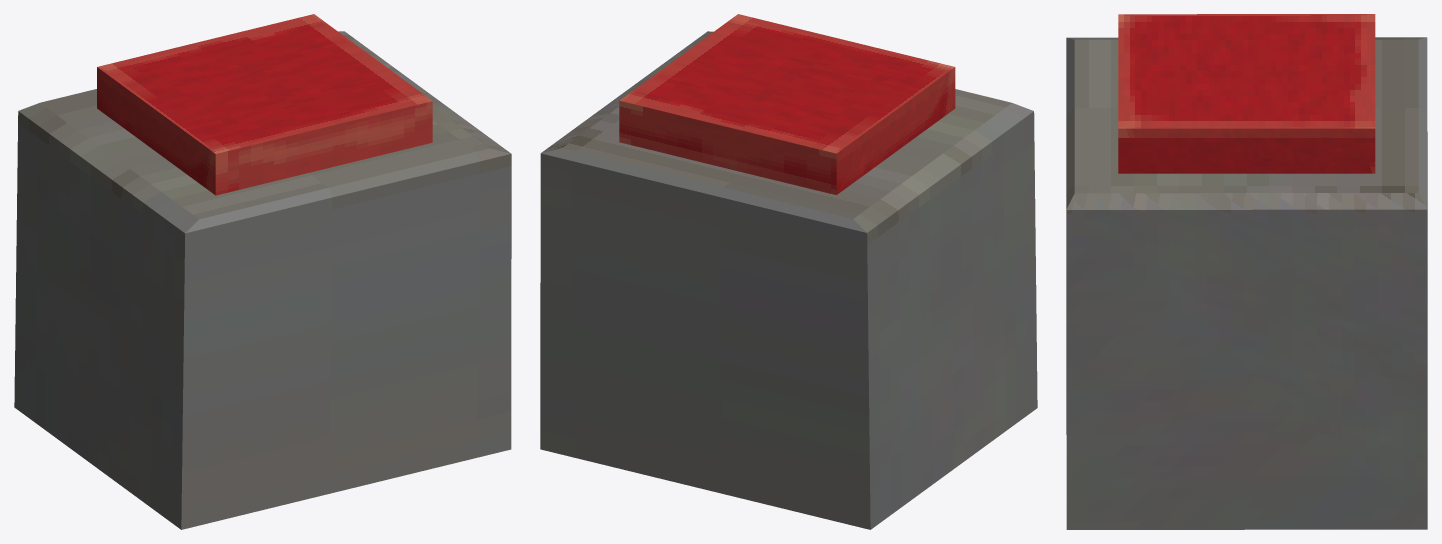
Rendered from button.glb.
3 renders of one model, left to right at view 1: azimuth 30°, elevation 25°; view 2: azimuth 150°, elevation 25°; view 3: azimuth 270°, elevation 25°, orthographic. The views are drawn at different scales.
Parts seen in each view (by area): view 1: LeftButtonBase, LeftButton; view 2: LeftButtonBase, LeftButton; view 3: LeftButtonBase, LeftButton.
Boxes of the visible parts, x1,y1,x2,y2 form: LeftButtonBase: [14, 31, 511, 529]; LeftButton: [97, 14, 432, 195]; LeftButtonBase: [540, 31, 1037, 529]; LeftButton: [619, 14, 955, 195]; LeftButtonBase: [1066, 37, 1427, 529]; LeftButton: [1118, 14, 1375, 173].
Size of the model in its own units: 0.0219 by 0.0219 by 0.0192.
Materials: 2 (2 with a texture image).
